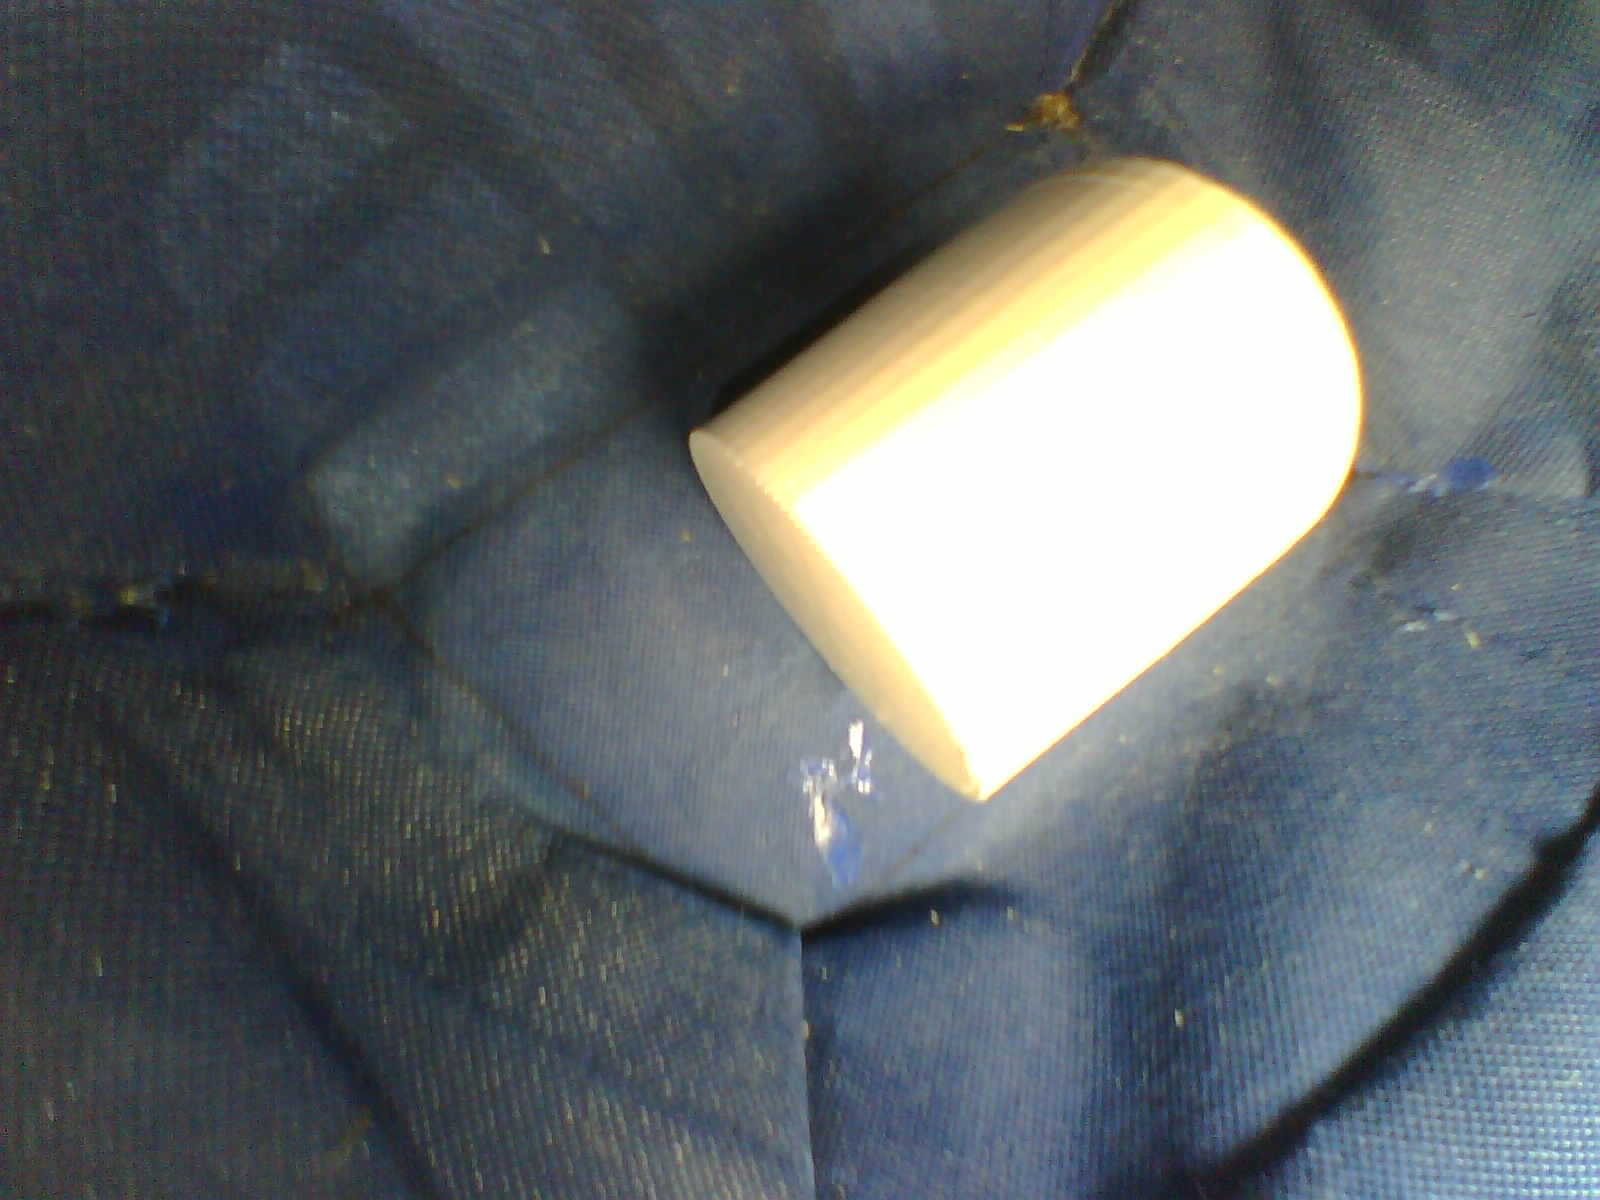cylinder-hard: (670, 144, 1373, 828)
